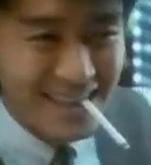smoke: (75, 94, 132, 151)
